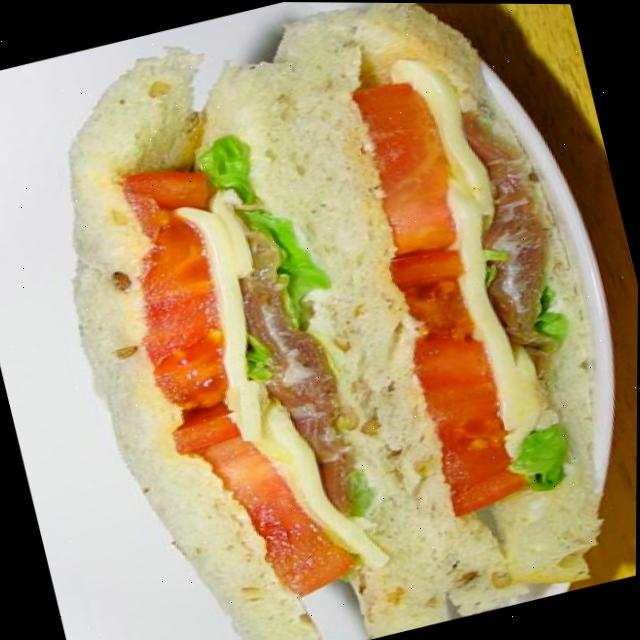三明治: (7, 0, 640, 640)
